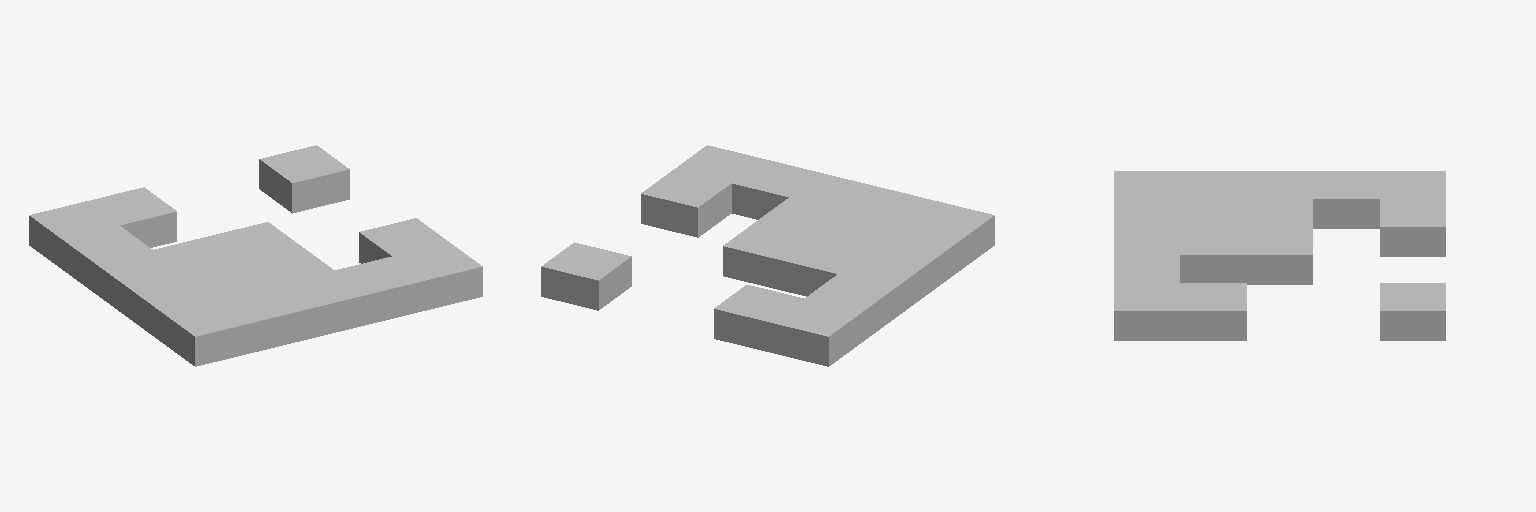
File: 60f_block.obj
The picture shows the model from 3 angles: view 1: azimuth 30°, elevation 25°; view 2: azimuth 150°, elevation 25°; view 3: azimuth 270°, elevation 25°; orthographic projection.
Parts seen in each view (by area): view 1: foil.block.0.0_block.4574, foil.block.4.4_block.4590, foil.block.4.0_block.4588, foil.block.2.0_block.4584, foil.block.1.0_block.4579, foil.block.3.0_block.4587, foil.block.1.4_block.4583, foil.block.0.3_block.4577, foil.block.0.4_block.4578, foil.block.0.2_block.4576, foil.block.0.1_block.4575, foil.block.4.1_block.4589 (+4 smaller); view 2: foil.block.4.1_block.4589, foil.block.4.4_block.4590, foil.block.0.4_block.4578, foil.block.1.4_block.4583, foil.block.2.2_block.4586, foil.block.1.2_block.4581, foil.block.3.0_block.4587, foil.block.0.1_block.4575, foil.block.0.0_block.4574, foil.block.0.2_block.4576, foil.block.0.3_block.4577, foil.block.2.0_block.4584 (+4 smaller); view 3: foil.block.0.3_block.4577, foil.block.4.1_block.4589, foil.block.1.4_block.4583, foil.block.2.2_block.4586, foil.block.4.0_block.4588, foil.block.4.4_block.4590, foil.block.2.1_block.4585, foil.block.0.1_block.4575, foil.block.1.1_block.4580, foil.block.0.0_block.4574, foil.block.0.2_block.4576, foil.block.0.4_block.4578 (+4 smaller).
Part boxes in pixels (bbox=[...]): foil.block.0.0_block.4574: bbox=[162, 298, 252, 366]; foil.block.4.4_block.4590: bbox=[259, 145, 349, 213]; foil.block.4.0_block.4588: bbox=[392, 242, 482, 310]; foil.block.2.0_block.4584: bbox=[277, 270, 367, 338]; foil.block.1.0_block.4579: bbox=[220, 285, 309, 352]; foil.block.3.0_block.4587: bbox=[335, 257, 424, 324]; foil.block.1.4_block.4583: bbox=[87, 187, 176, 247]; foil.block.0.3_block.4577: bbox=[62, 226, 152, 293]; foil.block.0.4_block.4578: bbox=[29, 201, 119, 268]; foil.block.0.2_block.4576: bbox=[96, 250, 184, 317]; foil.block.0.1_block.4575: bbox=[129, 274, 218, 341]; foil.block.4.1_block.4589: bbox=[359, 218, 448, 263]; foil.block.4.1_block.4589: bbox=[641, 169, 731, 237]; foil.block.4.4_block.4590: bbox=[541, 242, 631, 310]; foil.block.0.4_block.4578: bbox=[771, 298, 861, 366]; foil.block.1.4_block.4583: bbox=[714, 285, 803, 352]; foil.block.2.2_block.4586: bbox=[723, 222, 811, 289]; foil.block.1.2_block.4581: bbox=[780, 236, 869, 296]; foil.block.3.0_block.4587: bbox=[732, 159, 821, 219]; foil.block.0.1_block.4575: bbox=[871, 226, 961, 293]; foil.block.0.0_block.4574: bbox=[904, 201, 994, 268]; foil.block.0.2_block.4576: bbox=[839, 250, 927, 317]; foil.block.0.3_block.4577: bbox=[805, 274, 894, 341]; foil.block.2.0_block.4584: bbox=[789, 173, 878, 210]; foil.block.0.3_block.4577: bbox=[1313, 171, 1379, 228]; foil.block.4.1_block.4589: bbox=[1180, 283, 1246, 340]; foil.block.1.4_block.4583: bbox=[1380, 199, 1445, 256]; foil.block.2.2_block.4586: bbox=[1247, 227, 1312, 284]; foil.block.4.0_block.4588: bbox=[1114, 283, 1179, 340]; foil.block.4.4_block.4590: bbox=[1380, 283, 1445, 340]; foil.block.2.1_block.4585: bbox=[1180, 227, 1246, 282]; foil.block.0.1_block.4575: bbox=[1180, 171, 1246, 198]; foil.block.1.1_block.4580: bbox=[1180, 199, 1246, 226]; foil.block.0.0_block.4574: bbox=[1114, 171, 1179, 198]; foil.block.0.2_block.4576: bbox=[1247, 171, 1312, 198]; foil.block.0.4_block.4578: bbox=[1380, 171, 1445, 198].
Size of the model in its own units: 10 by 1 by 10.